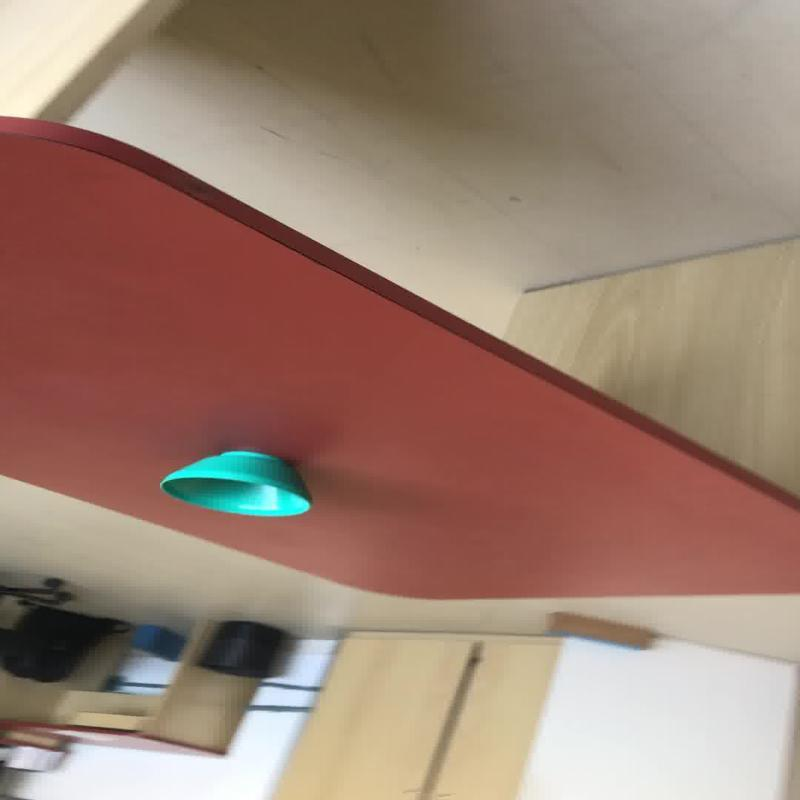bowl: (158, 449, 312, 517)
